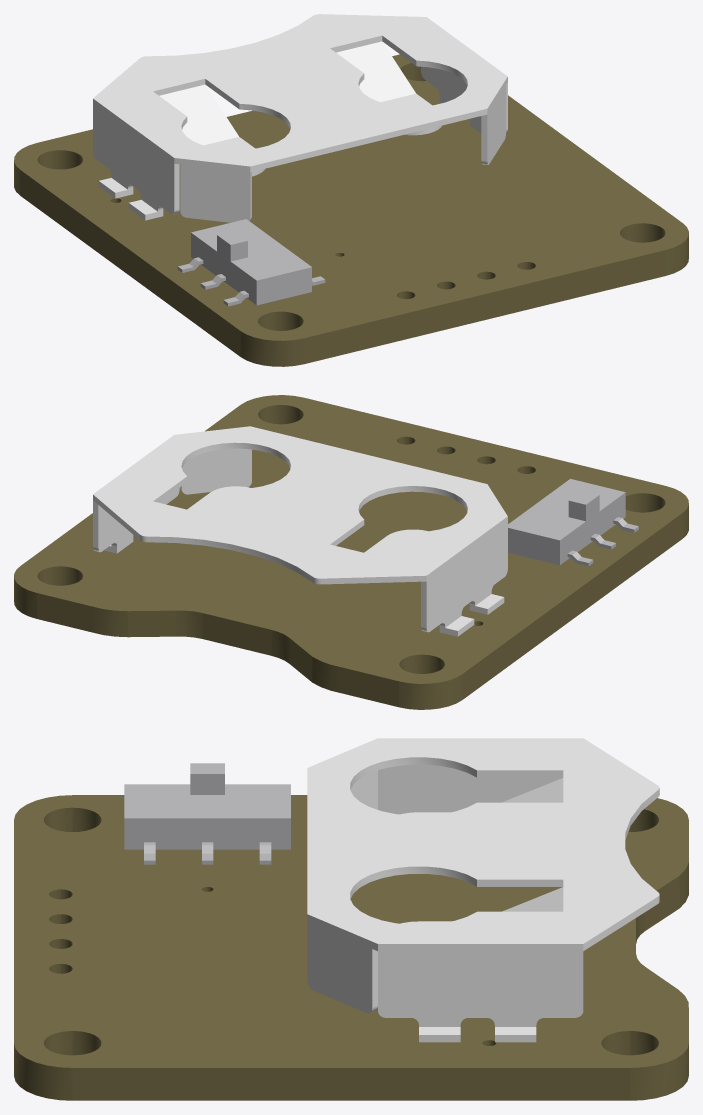
Rendered from ada-1871.glb.
The picture shows the model from 3 angles, top to bottom: view 1: azimuth 30°, elevation 25°; view 2: azimuth 150°, elevation 25°; view 3: azimuth 270°, elevation 25°; orthographic projection. The views are drawn at different scales.
Parts seen in each view (by area): view 1: 0.16666666666666666_0.16666666666666666_0.08333333333333333_, 0.9166666666666666_0.9166666666666666_0.9166666666666666_0.8, 0.5833333333333334_0.5833333333333334_0.5833333333333334_0.8; view 2: 0.16666666666666666_0.16666666666666666_0.08333333333333333_, 0.9166666666666666_0.9166666666666666_0.9166666666666666_0.8, 0.5833333333333334_0.5833333333333334_0.5833333333333334_0.8; view 3: 0.16666666666666666_0.16666666666666666_0.08333333333333333_, 0.9166666666666666_0.9166666666666666_0.9166666666666666_0.8, 0.5833333333333334_0.5833333333333334_0.5833333333333334_0.8.
Boxes of the visible parts, x1,y1,x2,y2 form: 0.16666666666666666_0.16666666666666666_0.08333333333333333_: (14,54,688,366); 0.9166666666666666_0.9166666666666666_0.9166666666666666_0.8: (93,14,507,222); 0.5833333333333334_0.5833333333333334_0.5833333333333334_0.8: (177,219,325,306); 0.16666666666666666_0.16666666666666666_0.08333333333333333_: (14,395,688,709); 0.9166666666666666_0.9166666666666666_0.9166666666666666_0.8: (93,426,507,636); 0.5833333333333334_0.5833333333333334_0.5833333333333334_0.8: (508,479,638,566); 0.16666666666666666_0.16666666666666666_0.08333333333333333_: (14,795,688,1100); 0.9166666666666666_0.9166666666666666_0.9166666666666666_0.8: (307,738,659,1042); 0.5833333333333334_0.5833333333333334_0.5833333333333334_0.8: (124,763,290,864).
Size of the model in its own units: 2.79 by 0.5889 by 2.92.
